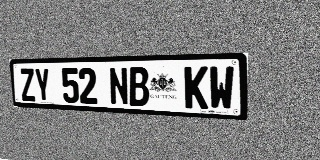2: (78, 68, 97, 104)
5: (61, 68, 80, 103)
B: (128, 67, 149, 107)
K: (184, 66, 208, 109)
N: (108, 67, 129, 106)
W: (209, 66, 234, 110)
Y: (34, 68, 51, 102)
Z: (19, 68, 36, 101)
